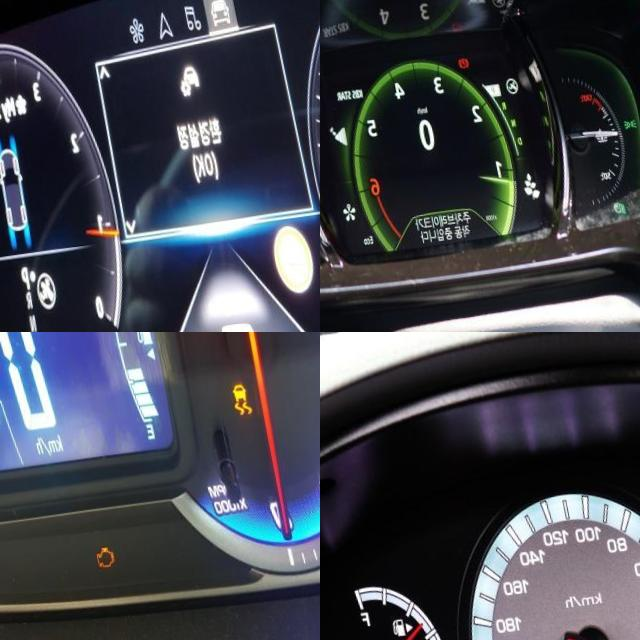Low beam: (597, 214, 611, 229)
SideLamp: (611, 132, 625, 143)
